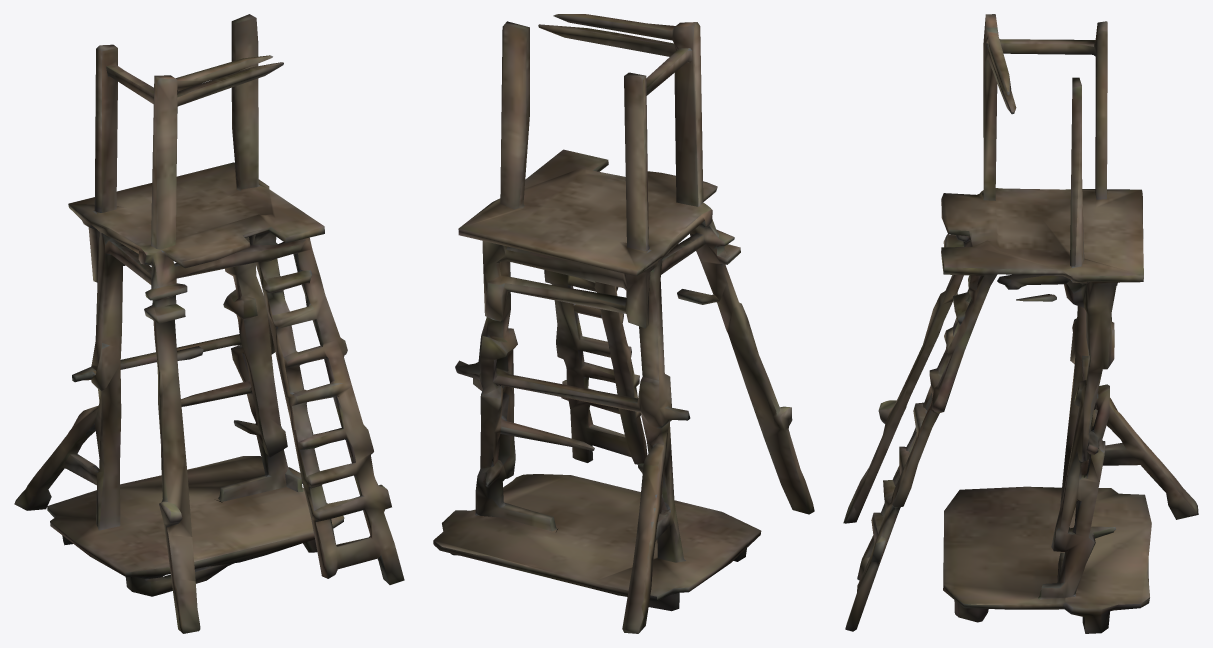
The model's file is chipped-wood-scaffold-tower-v002.glb.
3 renders of one model, left to right at view 1: azimuth 30°, elevation 25°; view 2: azimuth 150°, elevation 25°; view 3: azimuth 270°, elevation 25°, orthographic. The views are drawn at different scales.
Parts seen in each view (by area): view 1: chipped-wood-scaffold-tower; view 2: chipped-wood-scaffold-tower; view 3: chipped-wood-scaffold-tower.
Part boxes in pixels (x1,y1,x2,y2): chipped-wood-scaffold-tower: (14, 14, 404, 633); chipped-wood-scaffold-tower: (433, 14, 814, 633); chipped-wood-scaffold-tower: (843, 14, 1198, 633).
Size of the model in its own units: 1.29 by 2.6 by 1.59.
Materials: 1 (1 with a texture image).
